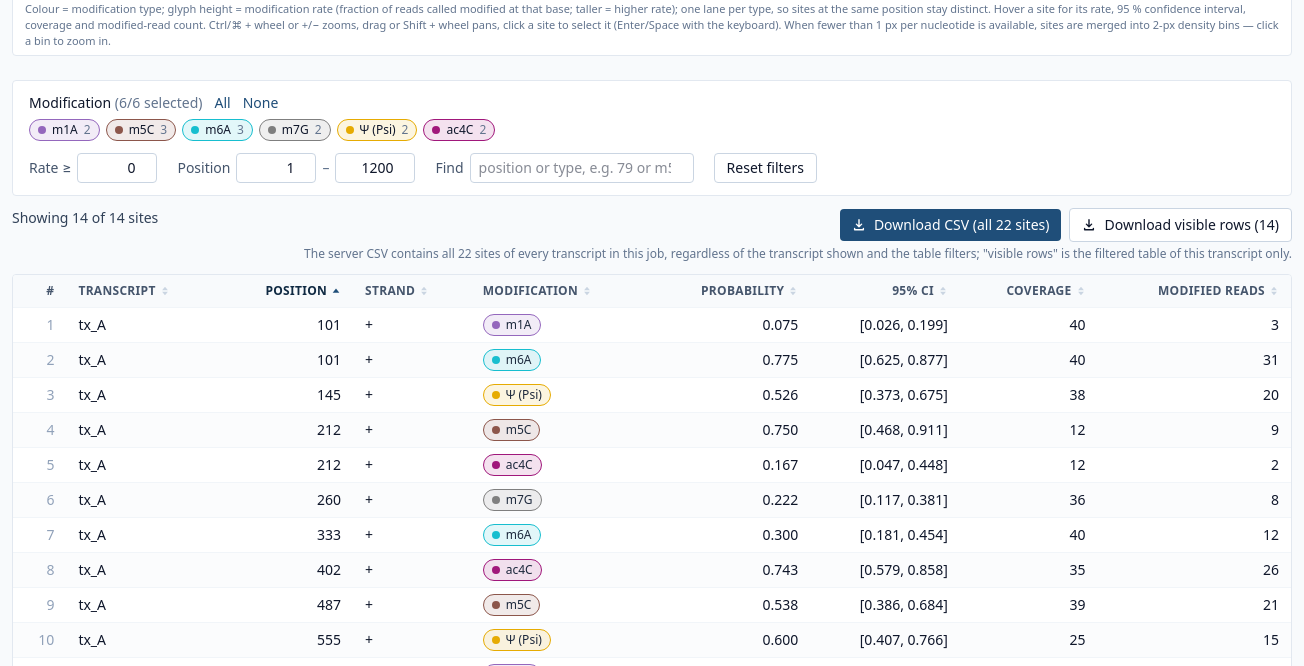
Test: ResultPage › done: summary, coverage warning, transcript selector, signal columns, read-level drill-down
(page scrolled)
Expected: the text with test id "visible-count" reads "Showing 14 of 14 sites", [12, 208, 158, 228]
Expected: the button with test id "download-csv" reads "Download CSV (all 22 sites)", [840, 209, 1062, 241]
Click the 2nd row with test id "result-row" at (652, 360), box [13, 342, 1291, 378]
(page scrolled)
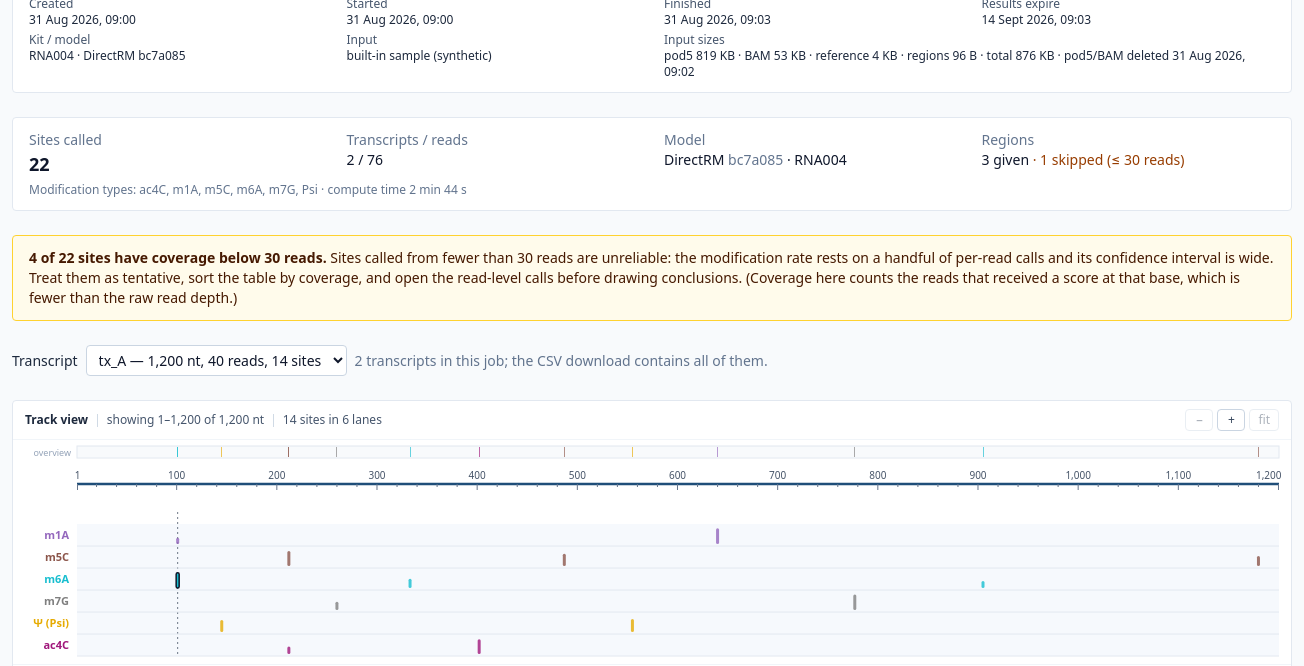
Switching transcript shows its rows and clears the selection.
Select "tx_B — 900 nt, 36 reads, 8 sites" in the dropdown with test id "transcript-select" at (216, 360), box [86, 345, 347, 376]
(page scrolled)
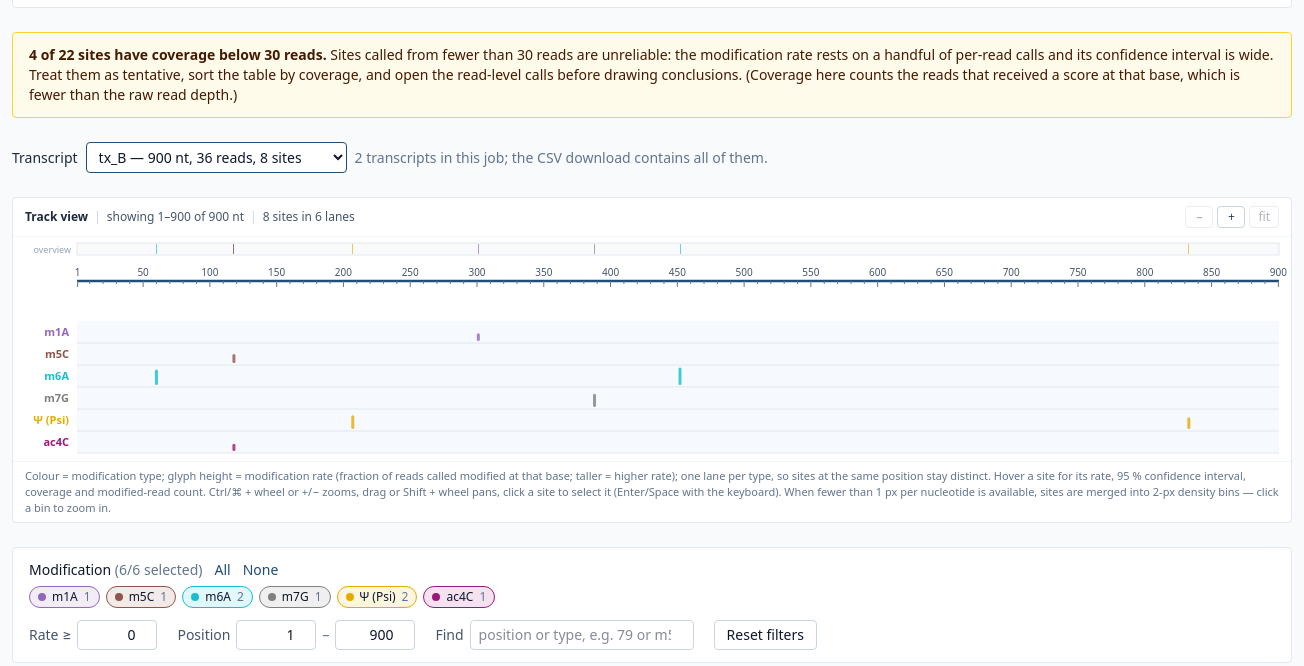
Expected: the element with test id "track-view" shows "of 900 nt", [12, 197, 1292, 523]
